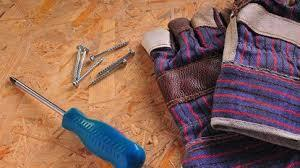screwdriver: (7, 74, 151, 167)
